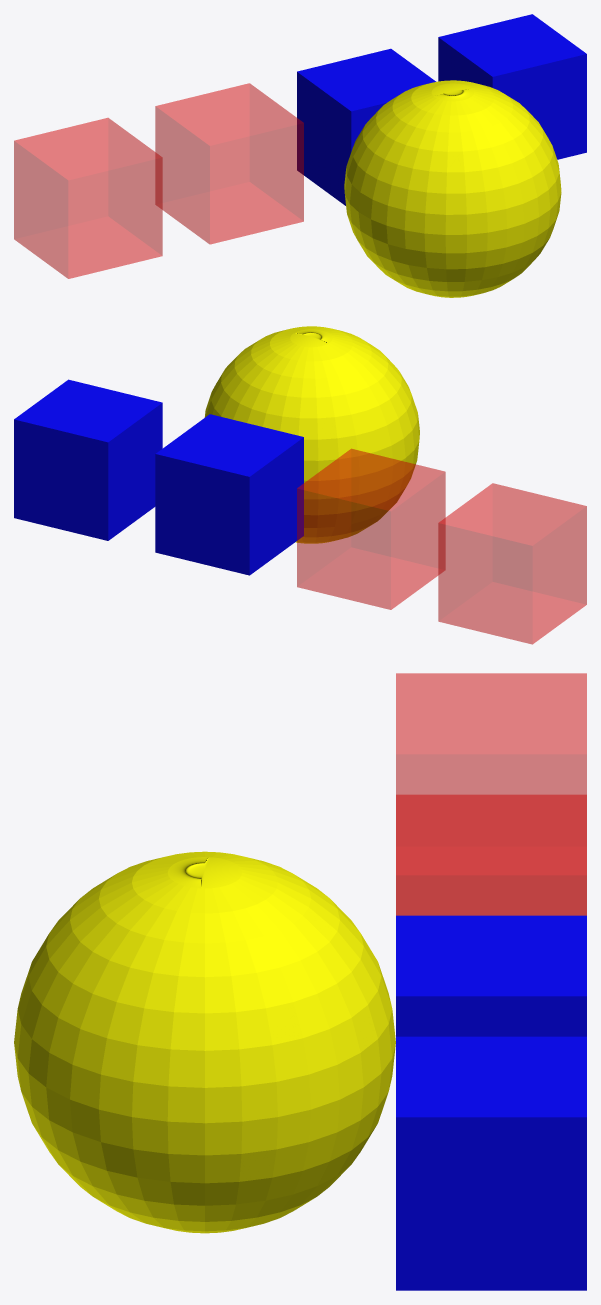
Rendered from test.modeler.scene.gltf.
3 views of the same model, one above another, from view 1: azimuth 30°, elevation 25°; view 2: azimuth 150°, elevation 25°; view 3: azimuth 270°, elevation 25° (orthographic). The views are drawn at different scales.
Parts seen in each view (by area): view 1: Mesh:Box (×4), Mesh:Sphere; view 2: Mesh:Box (×4), Mesh:Sphere; view 3: Mesh:Box (×4), Mesh:Sphere.
Boxes of the visible parts, bbox=[...] form: Mesh:Box (×4): bbox=[14, 14, 586, 278]; Mesh:Sphere: bbox=[344, 80, 561, 297]; Mesh:Box (×4): bbox=[14, 379, 586, 644]; Mesh:Sphere: bbox=[204, 326, 419, 543]; Mesh:Box (×4): bbox=[396, 673, 586, 1290]; Mesh:Sphere: bbox=[14, 851, 395, 1233].
Size of the model in its own units: 55 by 20 by 30.
